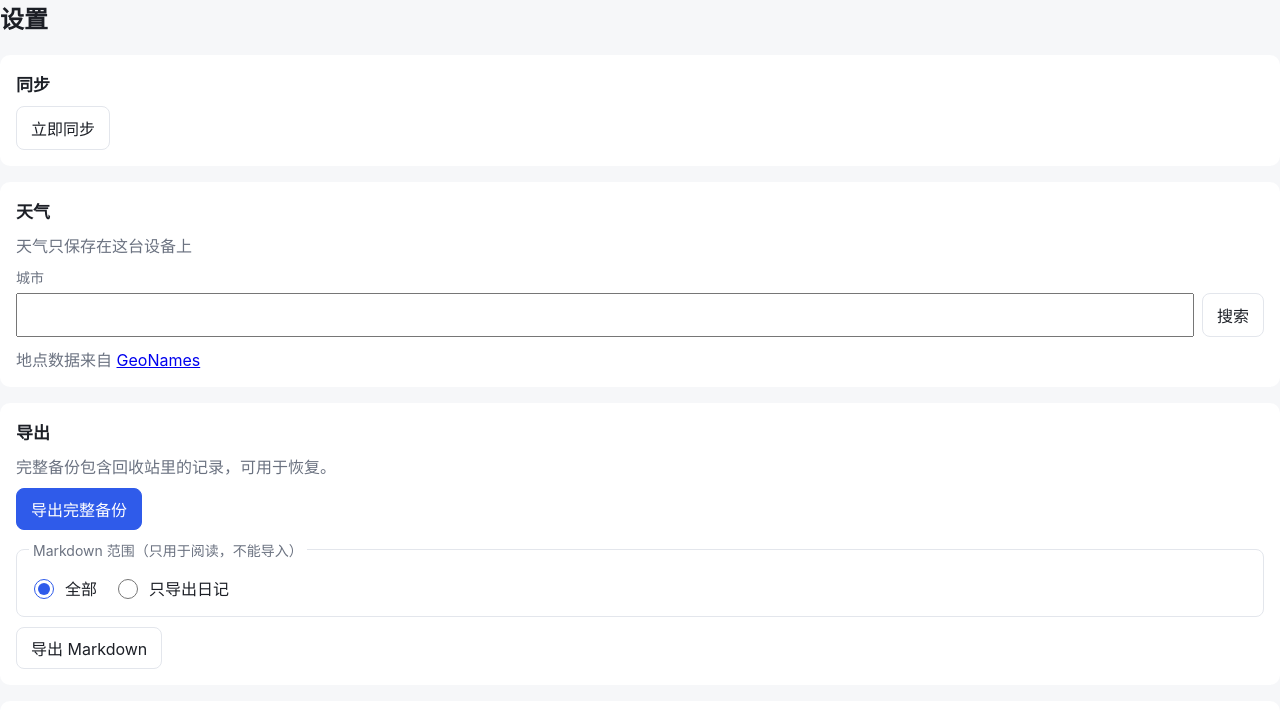
it: Settings: edges › does not record the export when saving the file fails, and says so
Click the button "导出完整备份". click: (79, 509)
box: left=16, top=488, right=142, bottom=530
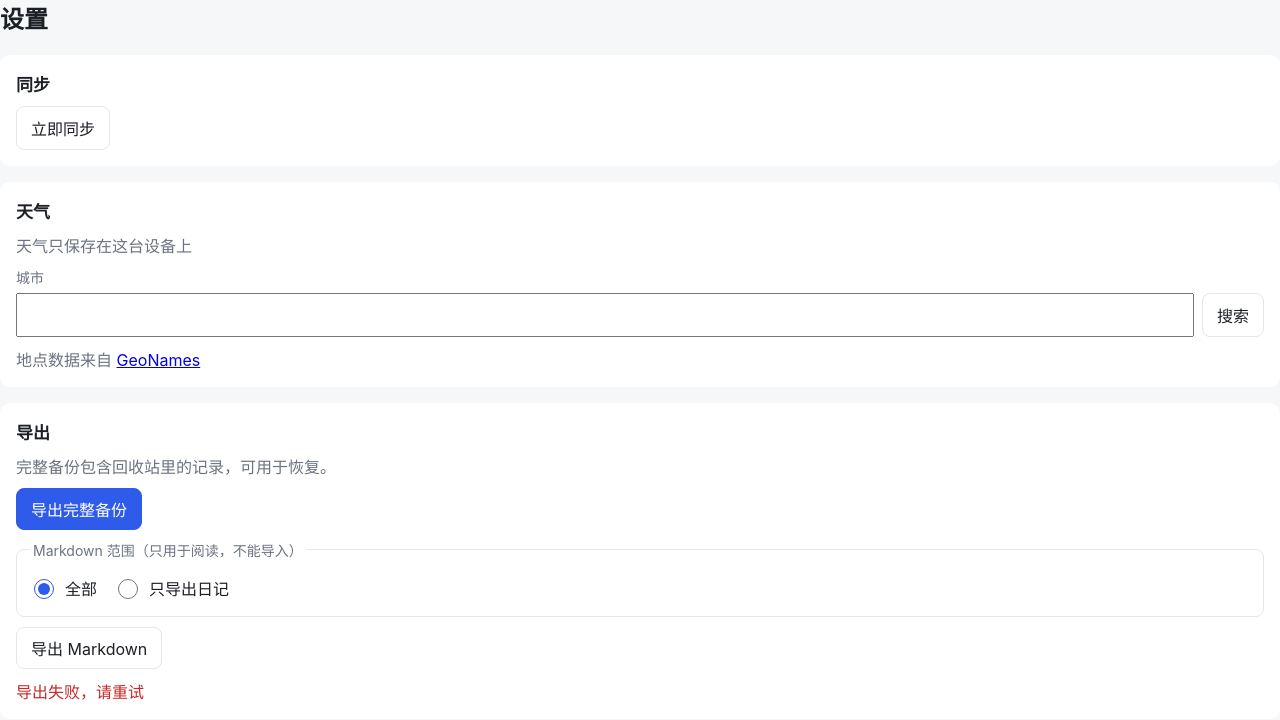
Result: the text "导出失败，请重试" is shown at left=16, top=679, right=144, bottom=703
